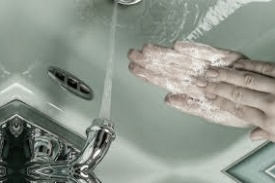washing hand: (31, 5, 260, 162)
